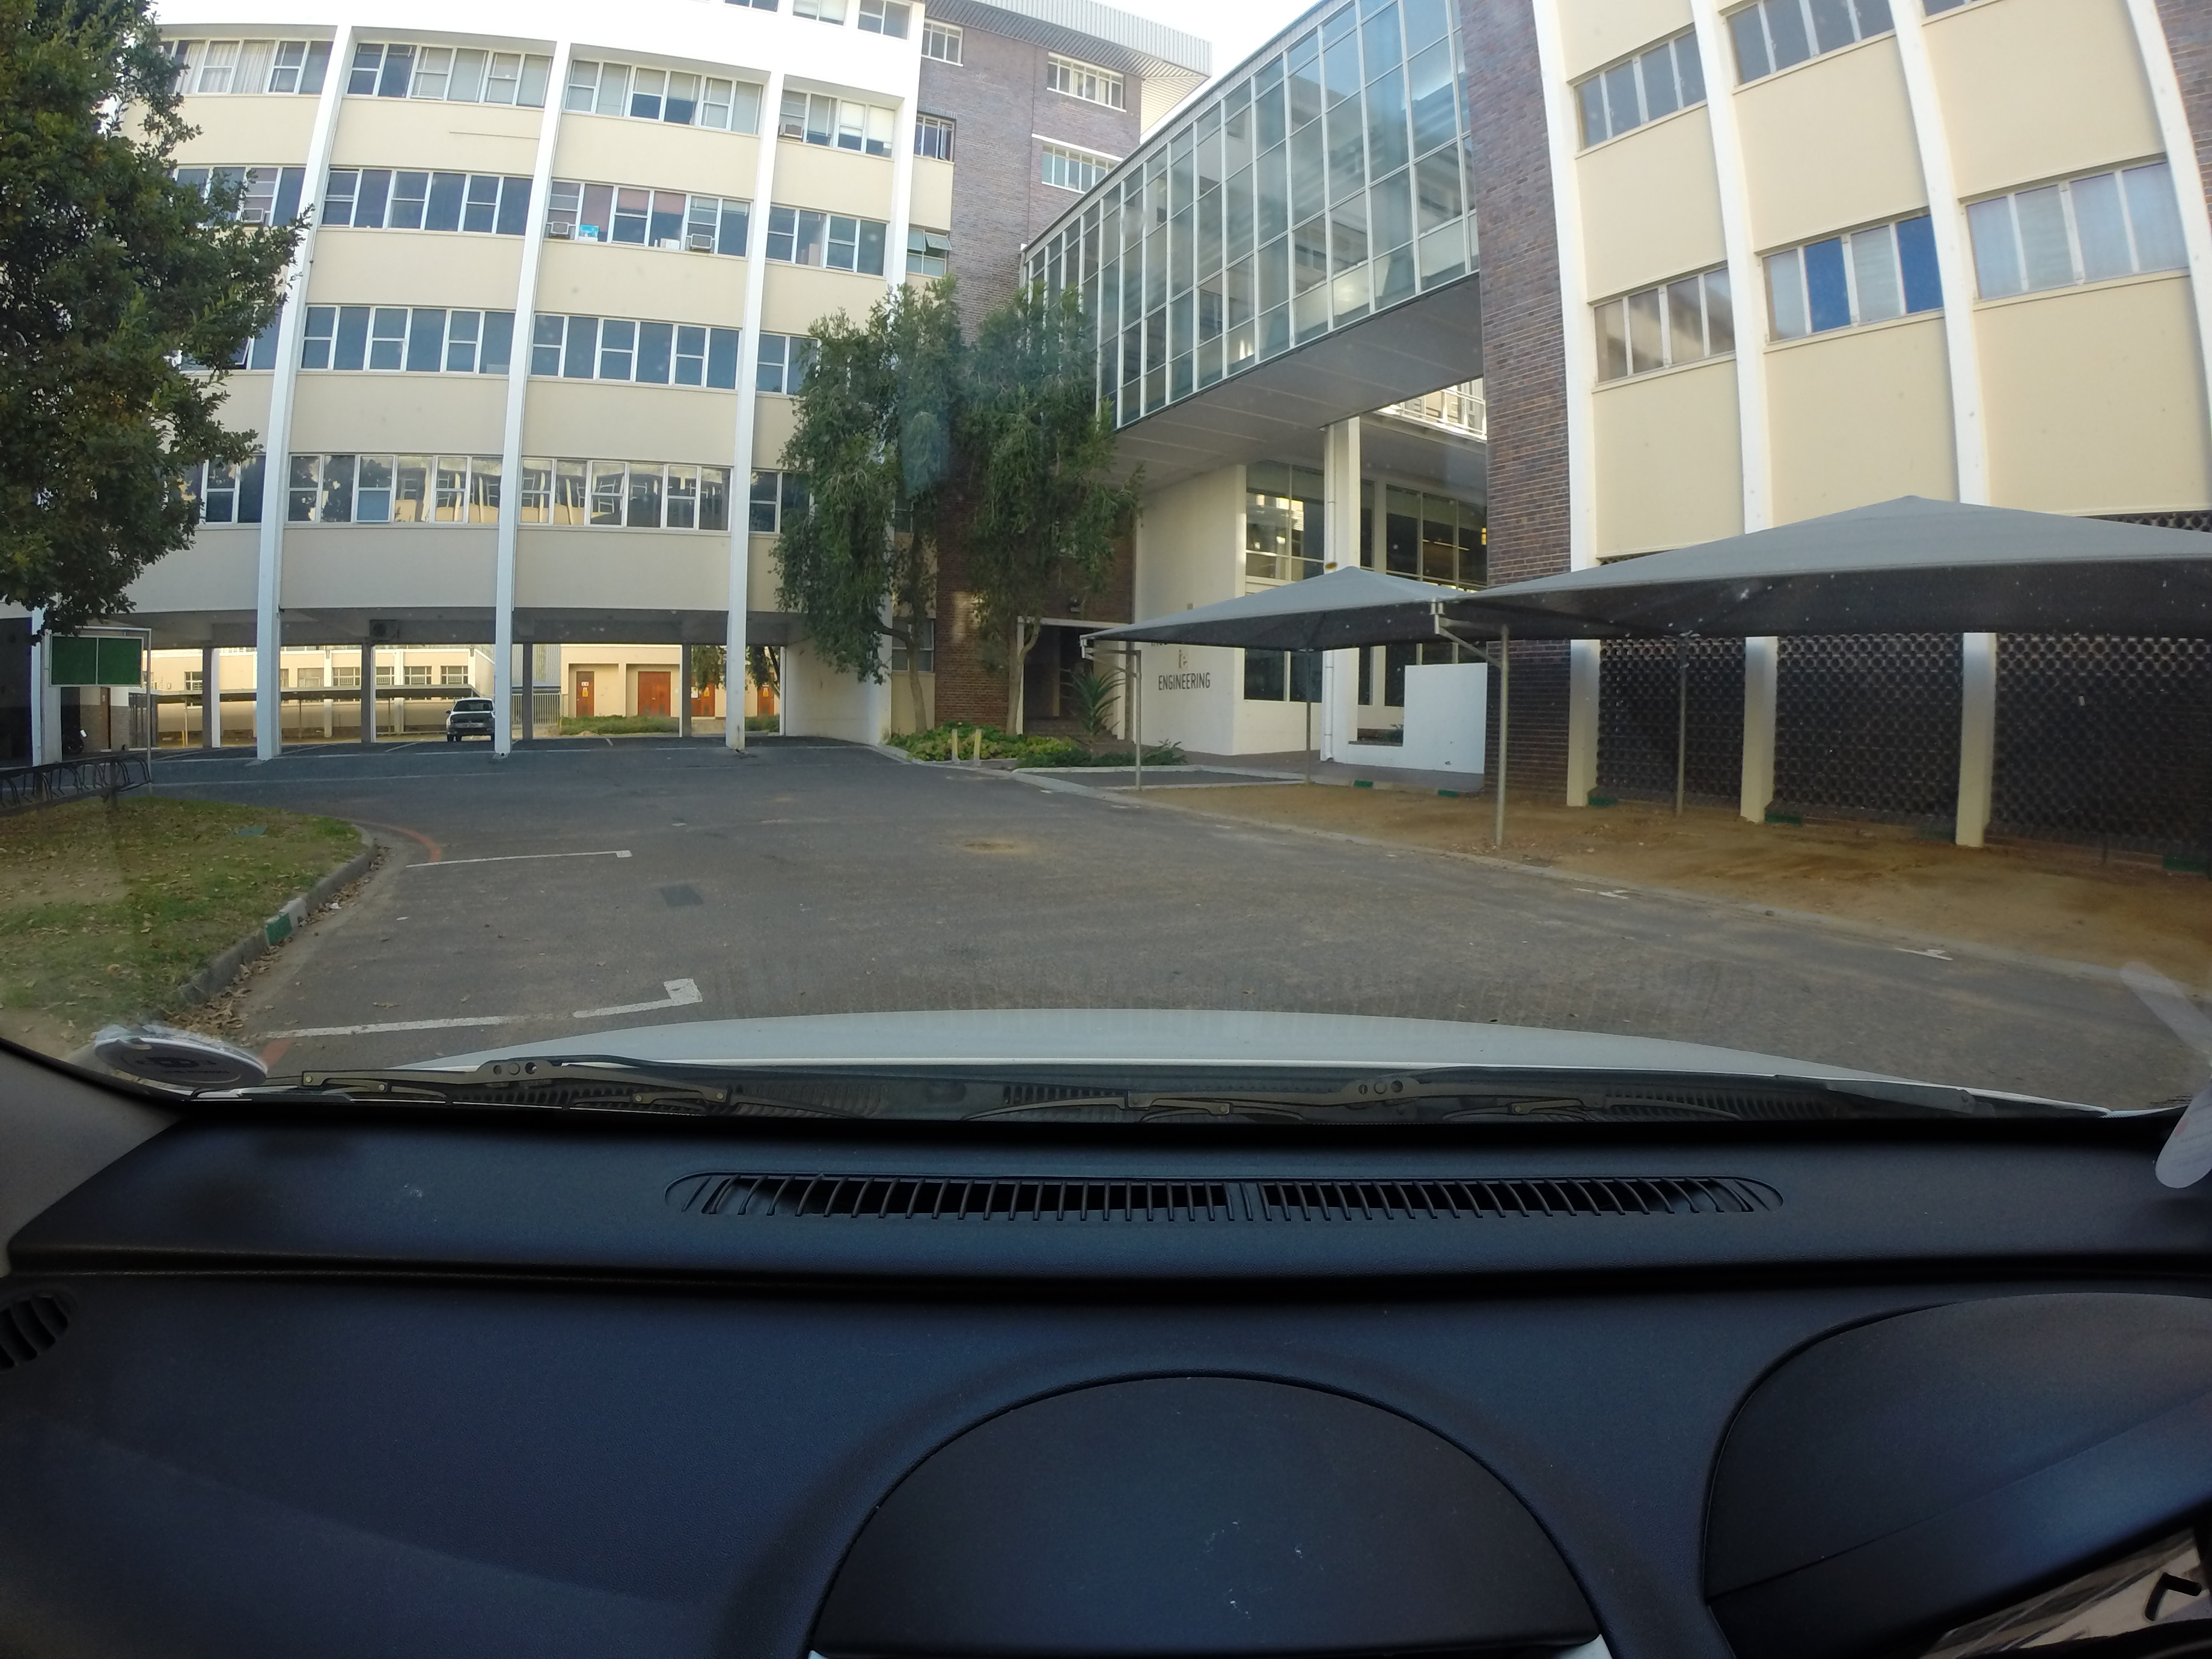pothole: (951, 840, 1038, 857)
